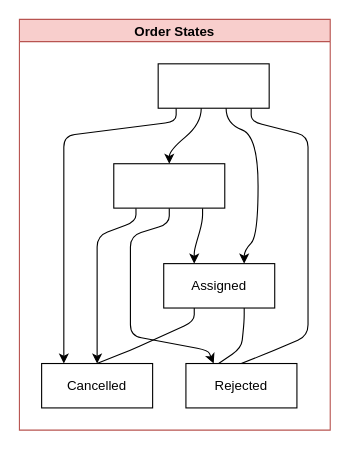
The diagram is 350 pixels wide and 450 high, and some of its shapes have lost their labels. The shapes that lost their labels are listed below. From the top down, each one's centre as x and y in pixels, then its label:
At (x=213, y=85): "Pending".
At (x=169, y=185): "onHold".
